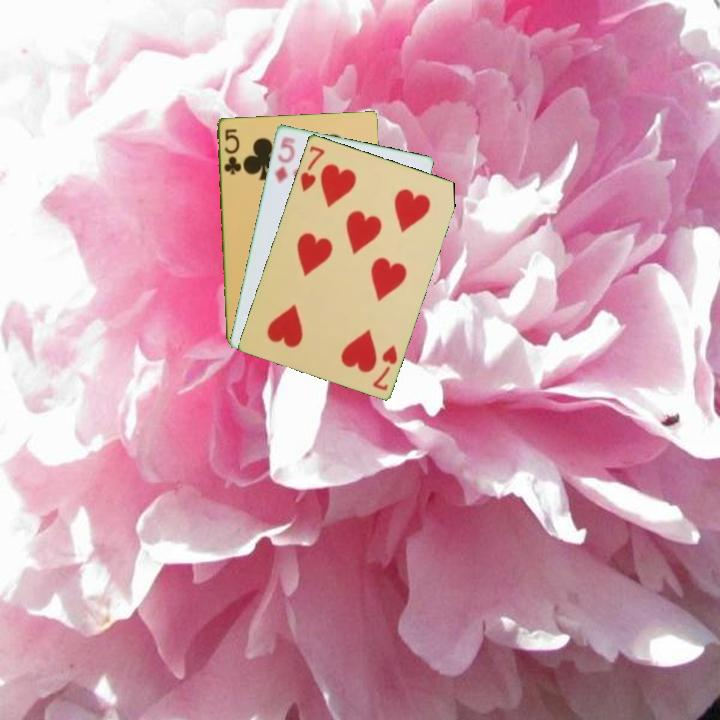5c: (220, 125, 244, 177)
5d: (271, 132, 298, 186)
7h: (369, 341, 400, 393), (297, 142, 327, 195)
